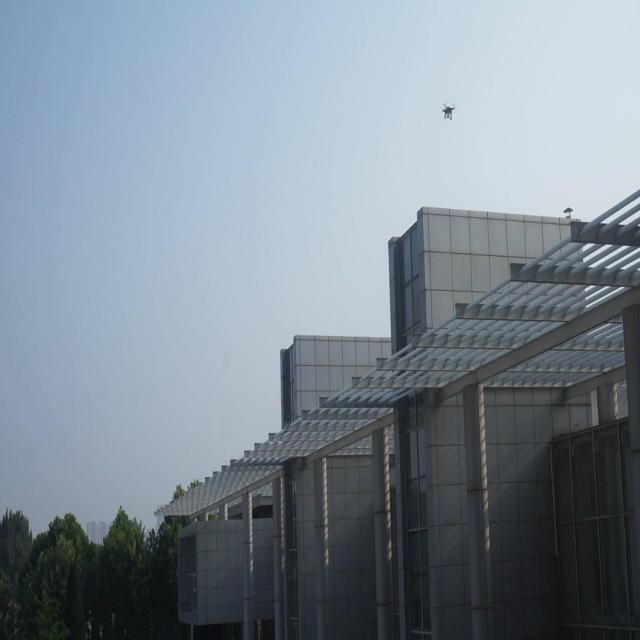UAV: (442, 103, 455, 121)
